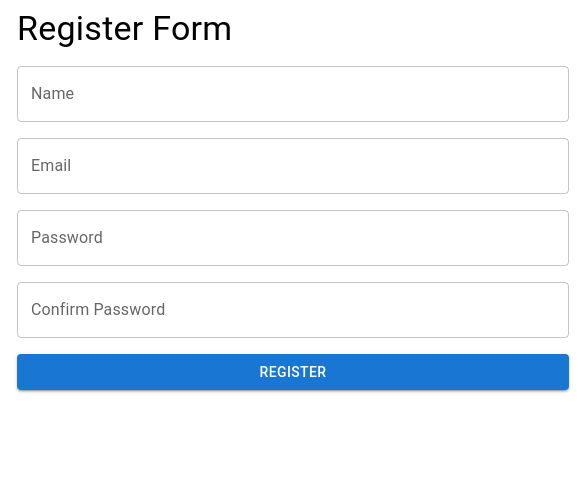
Test: RegisterPage component › displays error messages when fields are empty and register button is clicked
The image size is (587, 479).
What coordinates should you click on to do the following:
click the button "Register"
I would click on:
 (293, 372)
Its box is [17,354,569,390].
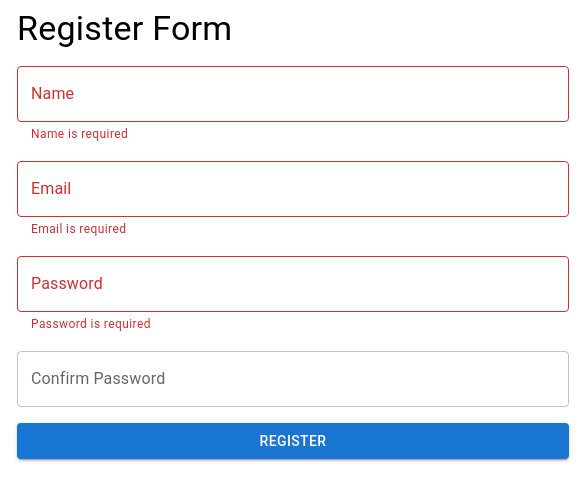
Expected: the text "Name is required" is shown, [31,127,128,141]
Expected: the text "Email is required" is shown, [31,222,126,236]
Expected: the text "Password is required" is shown, [31,317,151,331]
